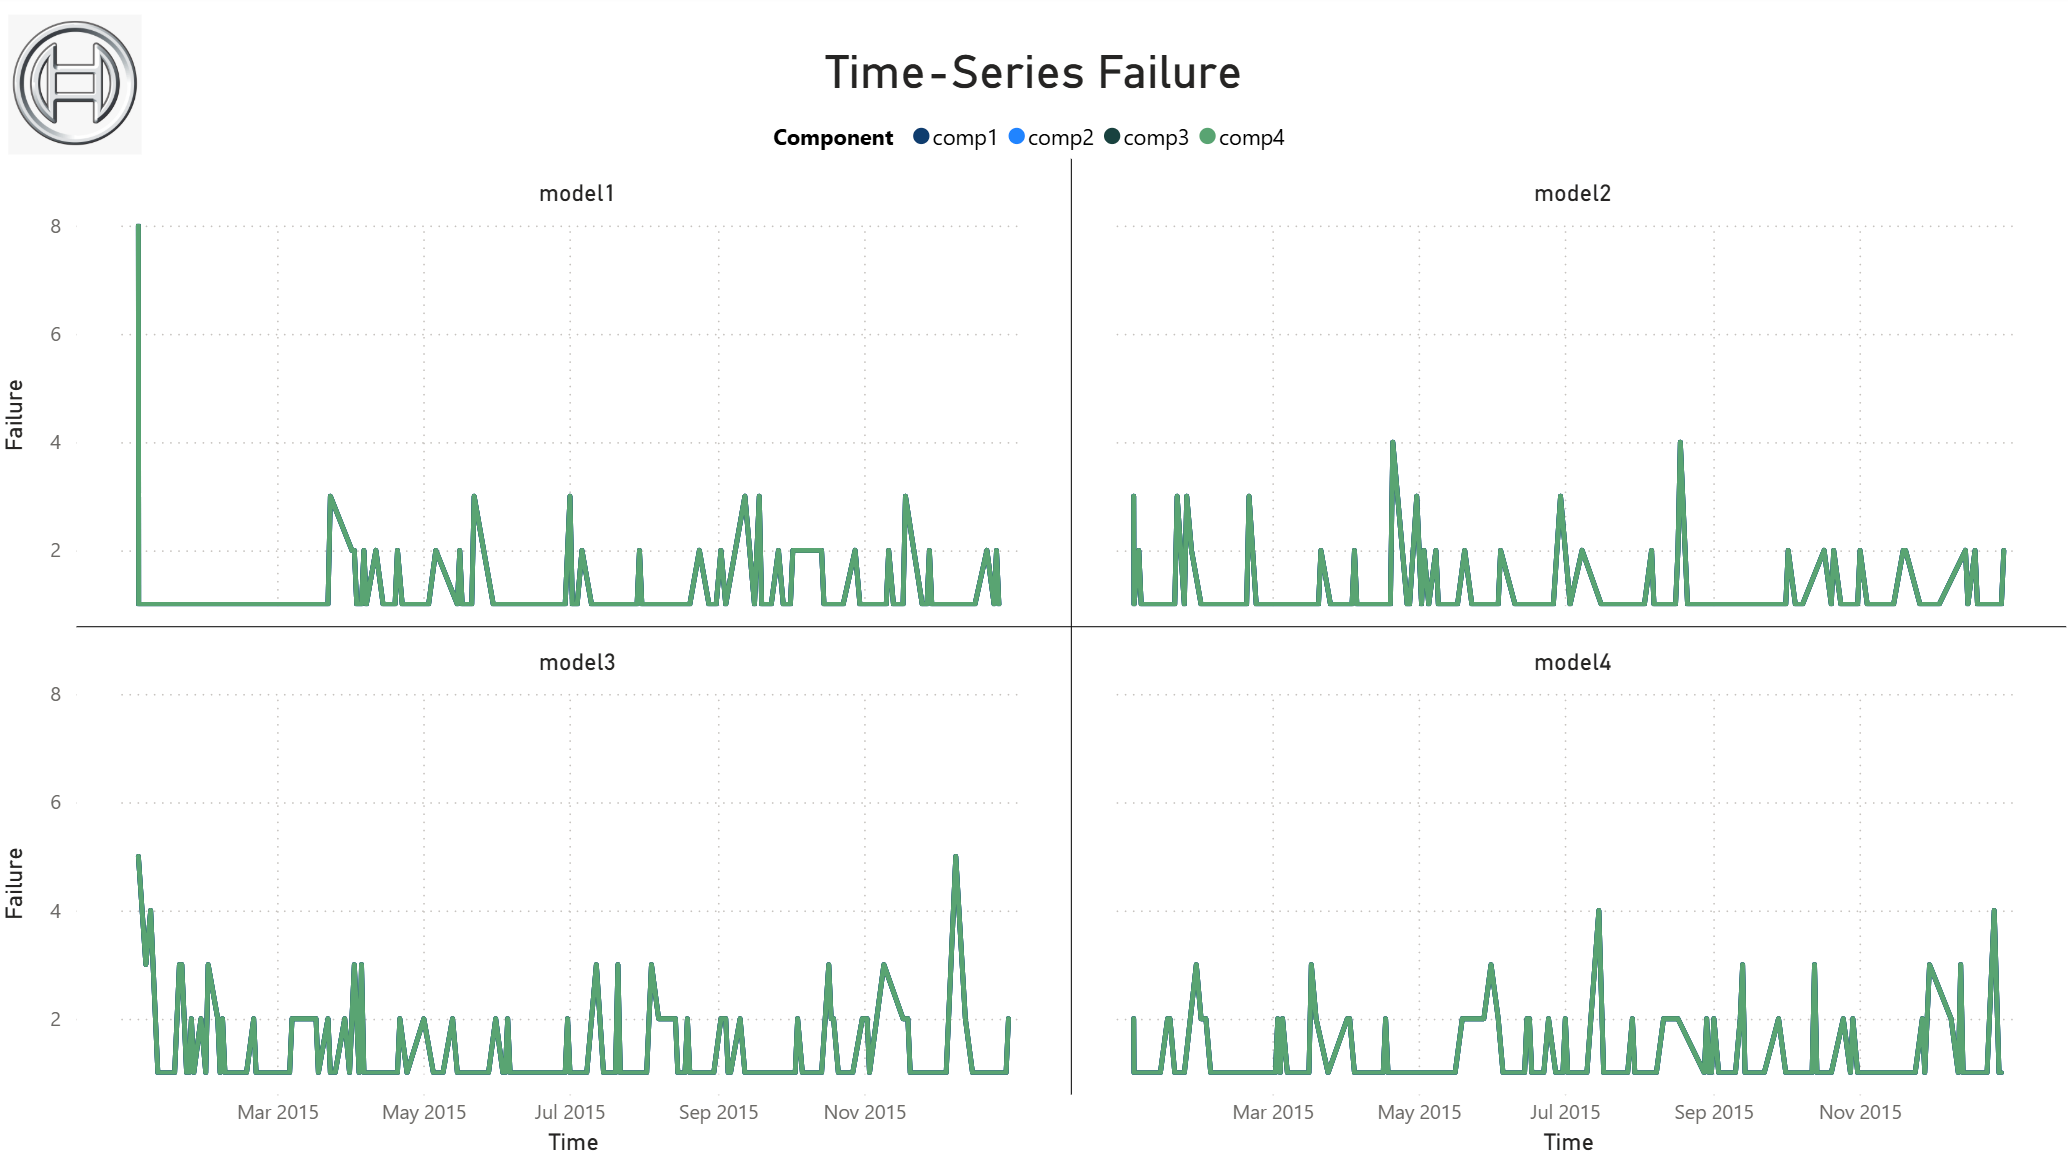

What the dashboard file says about the page in this screenshot:
{"tool":"powerbi","page":{"name":"Failure Variation","canvas":[1280,720],"ordinal":2},"visuals":[{"type":"lineChart","title":"Time-Series Failure ","fields":{"Category":["PdM_failures.datetime"],"Y":["CountNonNull(PdM_failures.failure)"],"Rows":["PdM_machines.model"],"Series":["PdM_maint.comp"]},"box":[0,31.2,1280.3,689],"z":0},{"type":"image","box":[0,7,101.6,96.6],"z":1000}]}

Visuals, with their boxes in screenshot pixels (x1, y1, x2, y2), scaled from the page's 1280x720 canvas onto the 2068x1159 screenshot:
"Time-Series Failure " lineChart: [0,50,2067,1158]
image: [0,11,164,167]
